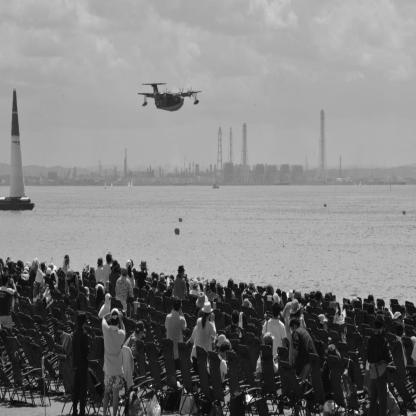US2: (138, 83, 203, 113)
